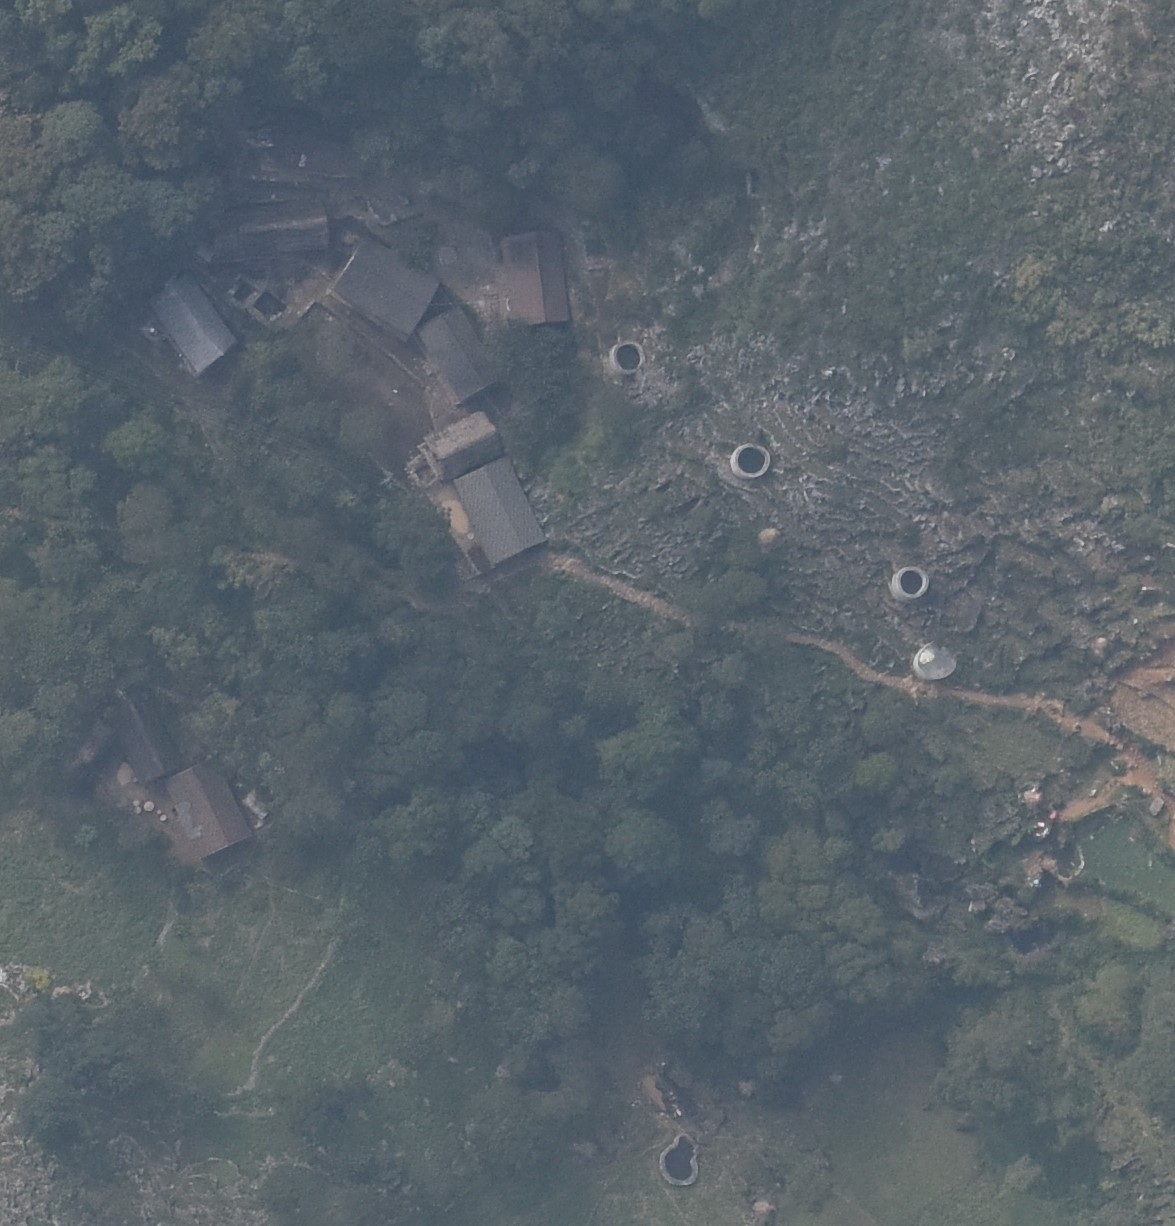building: (324, 236, 443, 337), (454, 454, 548, 569), (165, 757, 253, 861), (416, 302, 500, 405), (155, 271, 237, 375), (207, 197, 333, 257), (104, 689, 178, 787), (408, 413, 502, 483), (504, 232, 573, 325)
well: (724, 437, 782, 486), (887, 560, 937, 604), (912, 639, 957, 680), (610, 338, 652, 378)
